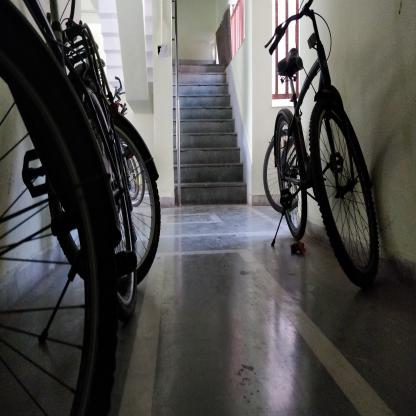stairs: (185, 64, 226, 209)
